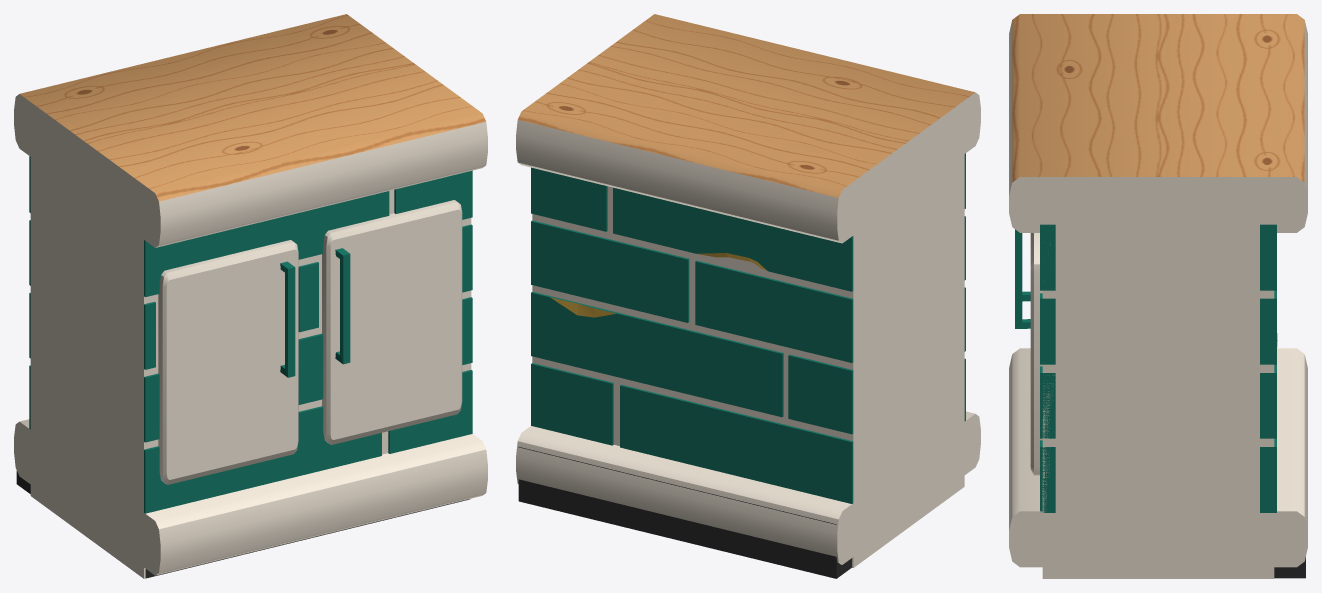
File: cabinet_a.glb
3 renders of one model, left to right at view 1: azimuth 30°, elevation 25°; view 2: azimuth 150°, elevation 25°; view 3: azimuth 270°, elevation 25°, orthographic. The views are drawn at different scales.
Parts seen in each view (by area): view 1: body; view 2: body; view 3: body.
Part boxes in pixels (left/top/right/bottom): body: left=14, top=14, right=487, bottom=578; body: left=516, top=14, right=980, bottom=578; body: left=1009, top=14, right=1307, bottom=578.
Bounding box in the file's own units: 0.8 × 0.92 × 0.62.
Materials: 5 (1 with a texture image).
